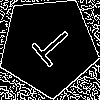T: (23, 21, 77, 75)
